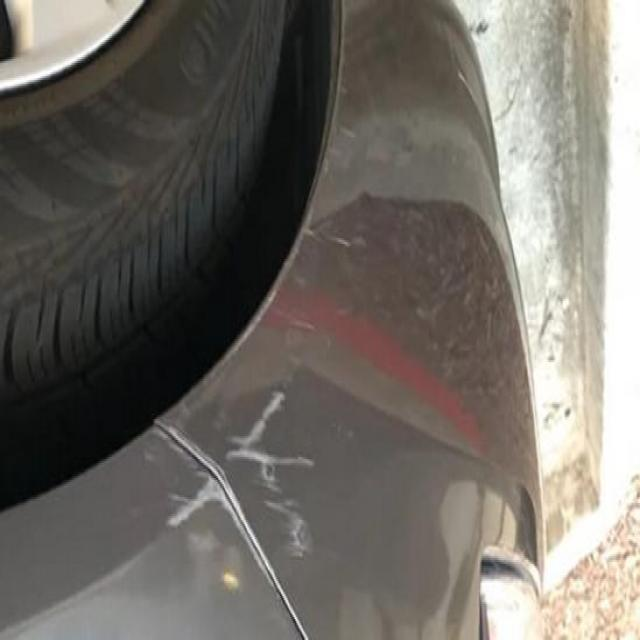scratch: (146, 375, 323, 556)
